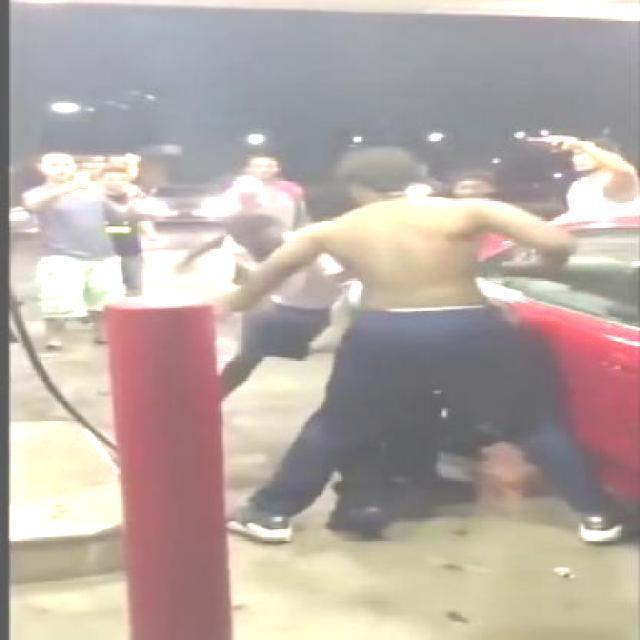fight: (174, 150, 638, 544)
